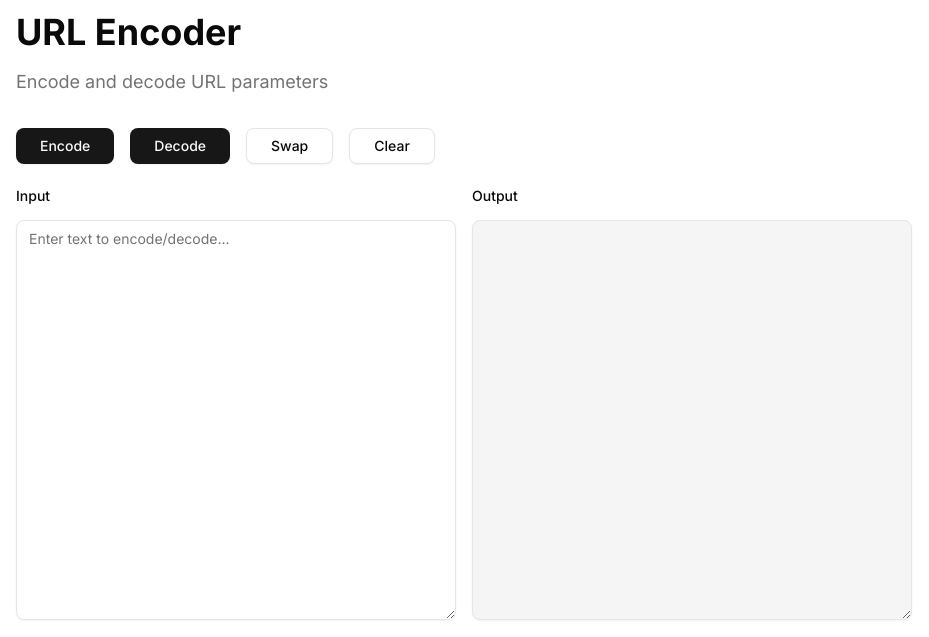
UrlEncoder › clears all fields when clear button is clicked
// First enter and encode text
Step 1. Type "Hello, world! Special chars: &^%$#@" into the text box with placeholder "Enter text to encode/decode..." → point(236, 420), box top-left (16, 220), bottom-right (456, 620)
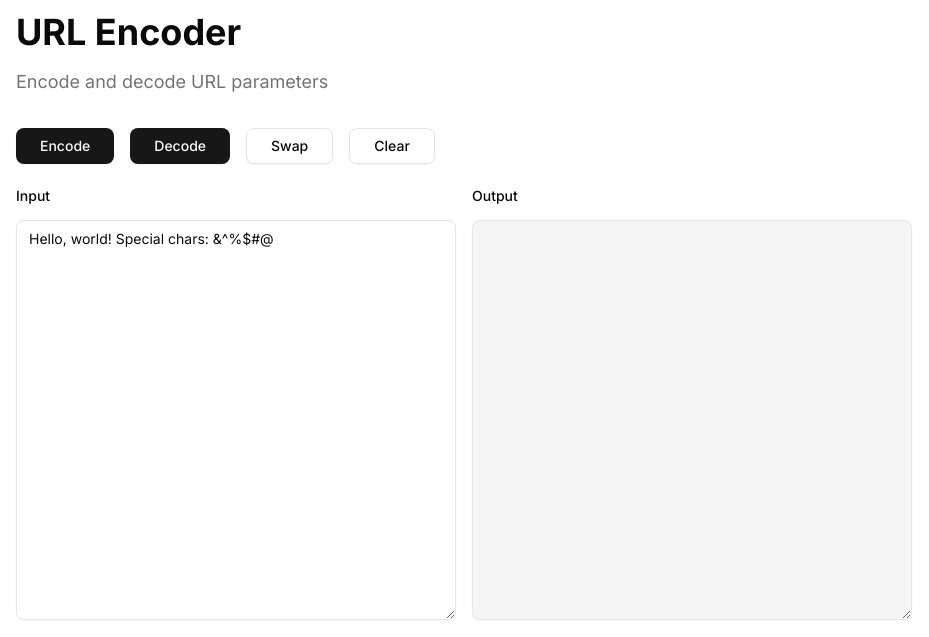
Step 2. Click the button "Encode" → point(65, 146), box top-left (16, 128), bottom-right (114, 164)
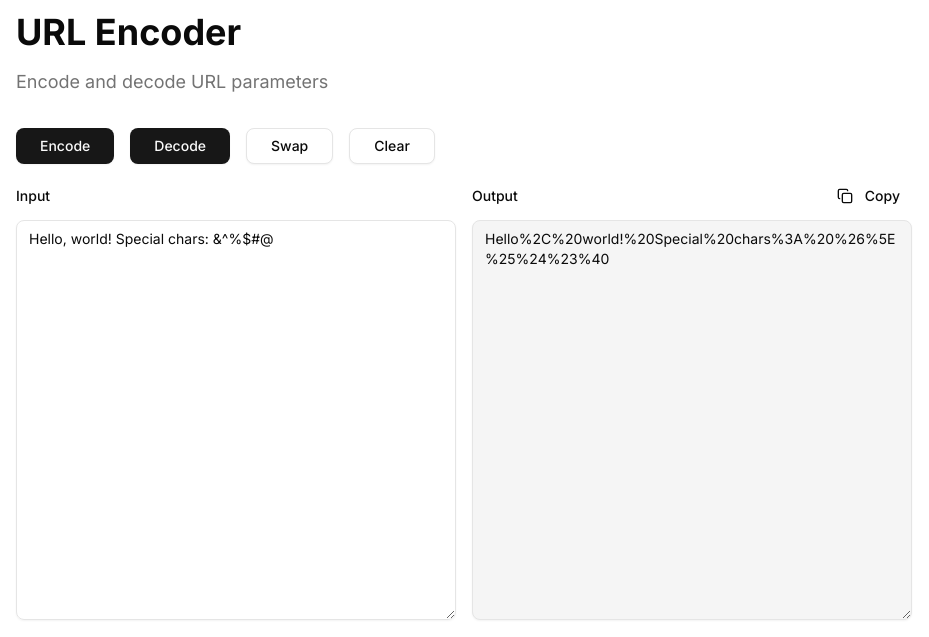
Expected: the text box named "output" holds "Hello%2C%20world!%20Special%20chars%3A%20%26%5E%25%24%23%40", top-left (472, 220), bottom-right (912, 620)
// Then clear
Step 3. Click the button "Clear" → point(392, 146), box top-left (349, 128), bottom-right (435, 164)
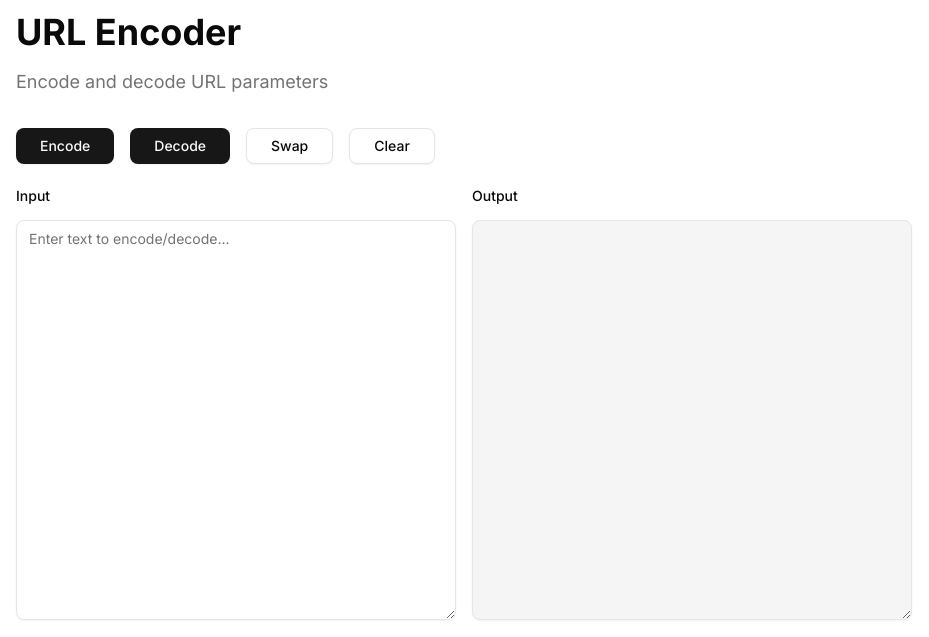
Expected: the text box with placeholder "Enter text to encode/decode..." is empty, top-left (16, 220), bottom-right (456, 620)
Expected: the text box named "output" is empty, top-left (472, 220), bottom-right (912, 620)
